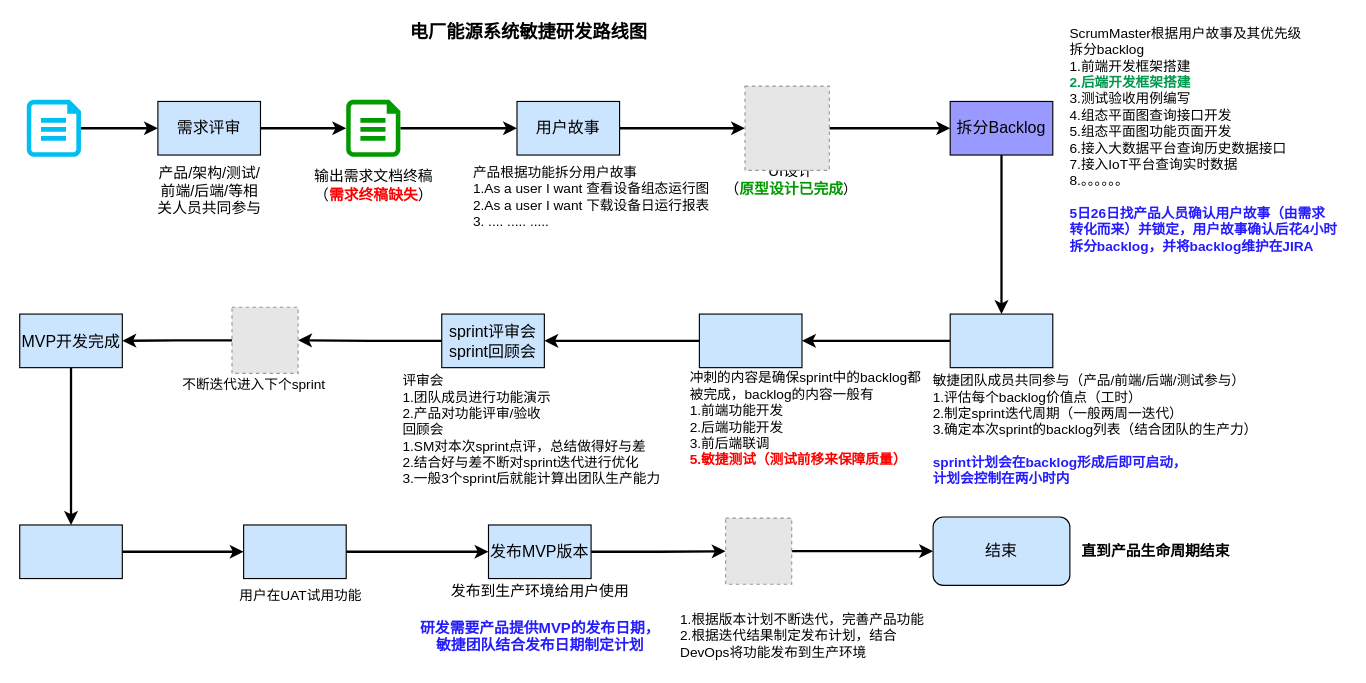
Image size: 1366x683. Some labels were removed from this diagram. Grey dashed boxes stand in for pictures. The shapes that lost their labels are listed below. From the top down, each one's centre as x and y in pixels, then its label:
At point 750,340: "sprint冲刺".
At point 1001,340: "sprint计划会".
At point 70,551: "专项测试".
At point 294,551: "发布UAT环境".
